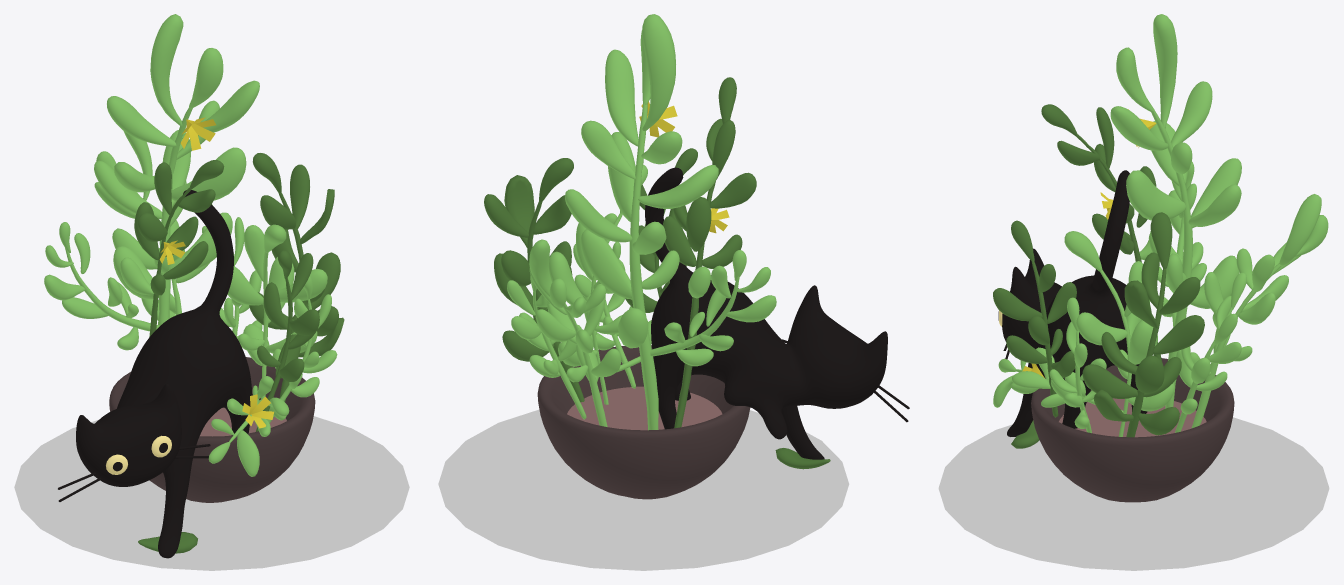
Rendered from cat_in_flowers.glb.
3 views of the same model, side by side, from view 1: azimuth 30°, elevation 25°; view 2: azimuth 150°, elevation 25°; view 3: azimuth 270°, elevation 25° (orthographic). The views are drawn at different scales.
Visible parts, largest first — view 1: polySurface190, pDisc1, polySurface130, polySurface240, pCone2, polySurface241, pCone1; view 2: polySurface190, pDisc1, polySurface130, polySurface240, polySurface241; view 3: polySurface190, pDisc1, polySurface240, polySurface130, polySurface241.
Part boxes in pixels (left/top/right/bottom): polySurface190: left=44, top=14, right=344, bottom=553; pDisc1: left=14, top=416, right=409, bottom=570; polySurface130: left=76, top=190, right=252, bottom=558; polySurface240: left=109, top=357, right=315, bottom=502; pCone2: left=180, top=117, right=216, bottom=150; polySurface241: left=200, top=407, right=286, bottom=436; pCone1: left=242, top=394, right=273, bottom=428; polySurface190: left=484, top=14, right=830, bottom=469; pDisc1: left=438, top=409, right=849, bottom=570; polySurface130: left=645, top=167, right=887, bottom=459; polySurface240: left=537, top=345, right=750, bottom=499; polySurface241: left=567, top=386, right=722, bottom=430; polySurface190: left=993, top=14, right=1328, bottom=448; pDisc1: left=938, top=417, right=1329, bottom=570; polySurface240: left=1031, top=358, right=1234, bottom=502; polySurface130: left=1002, top=170, right=1147, bottom=436; polySurface241: left=1059, top=398, right=1206, bottom=437.
Bounding box in the file's own units: 0.0177 × 0.0211 × 0.0161.
